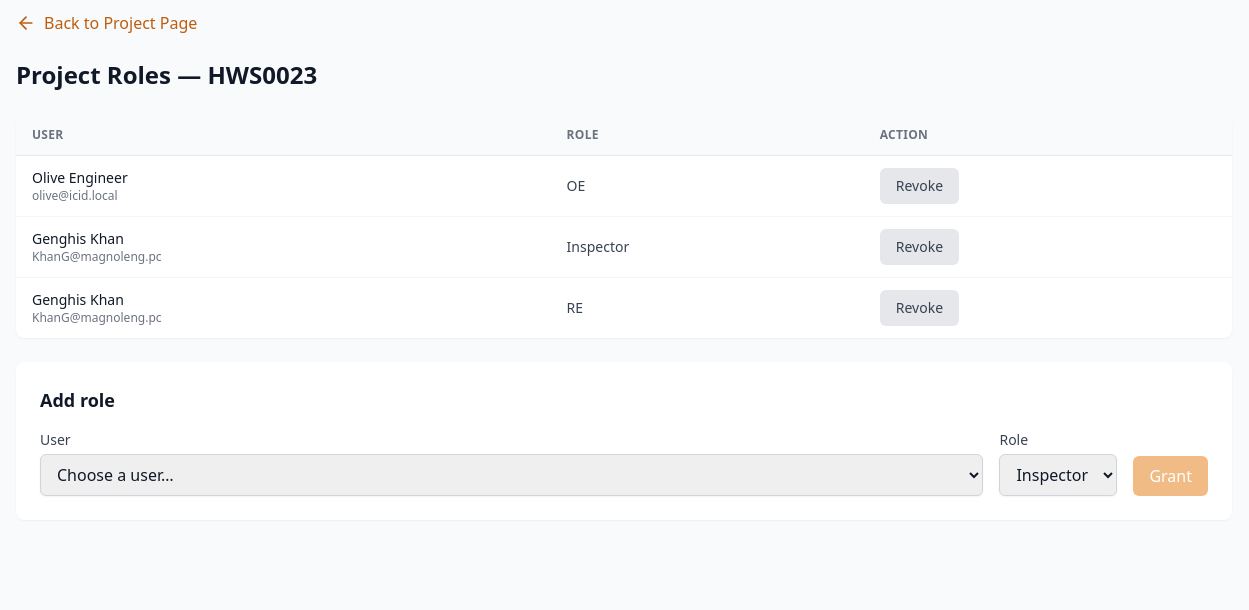
Test: ProjectRolesPage — Add role › grants the role, shows the new row and what happened, and clears the picker
Select "Olive Engineer (olive@icid.local)" in the dropdown labelled "User". click: (512, 475)
box: [40,454,983,496]
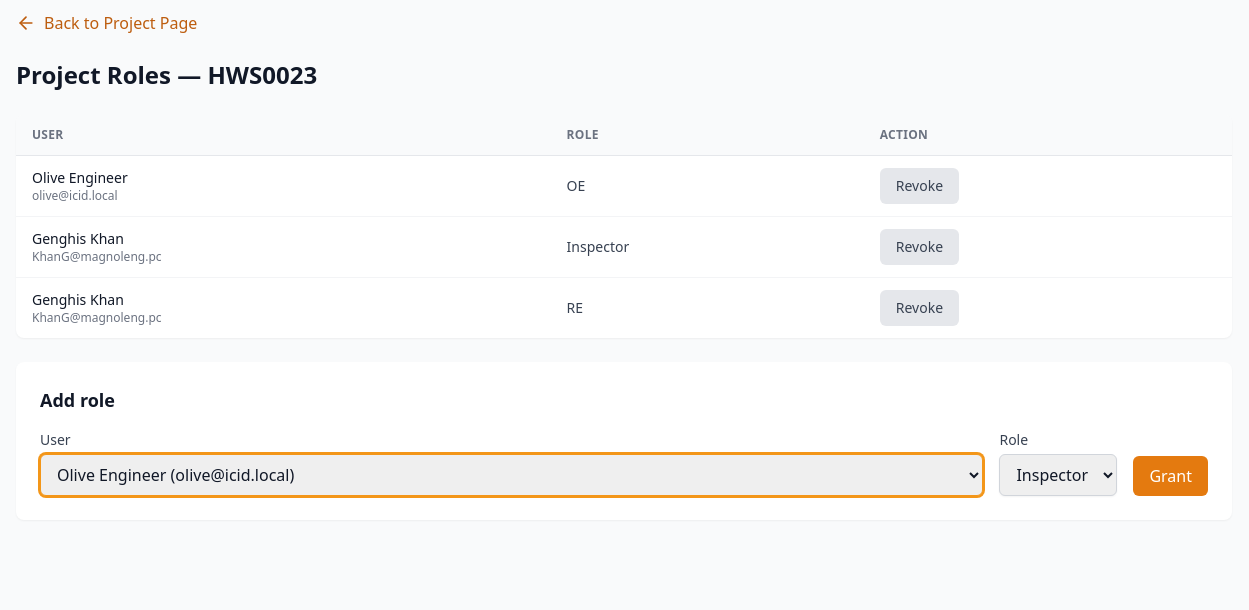
Select "RE" in the dropdown labelled "Role". click: (1058, 475)
box: [999,454,1117,496]
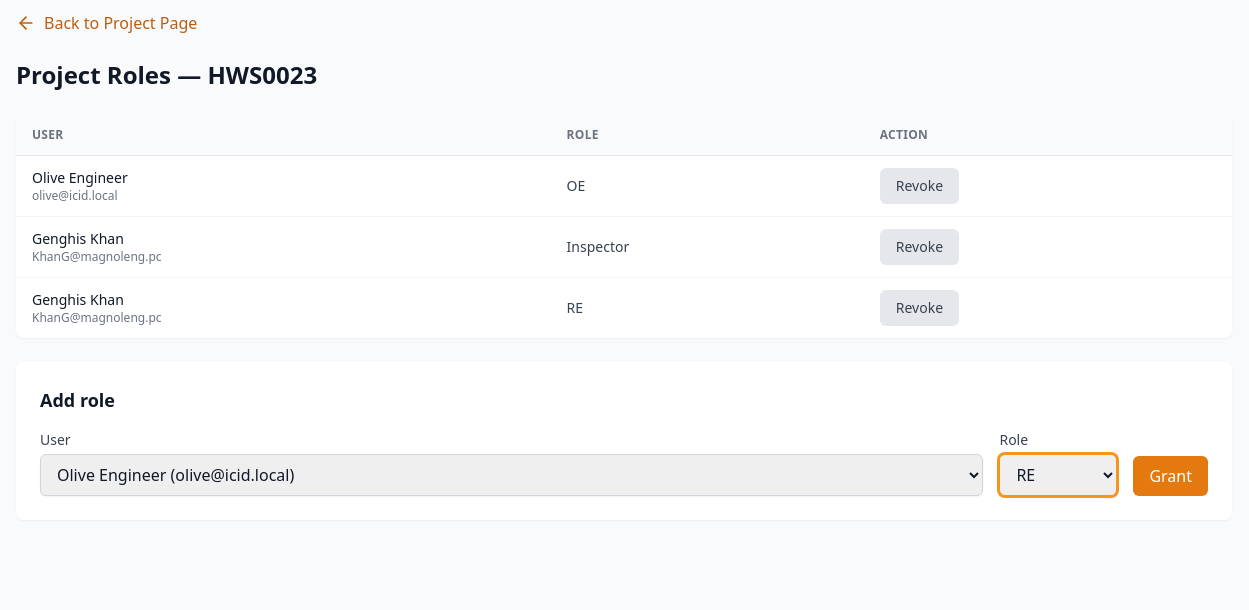
Click the button "Grant". click: (1171, 476)
box: [1133,456,1208,496]
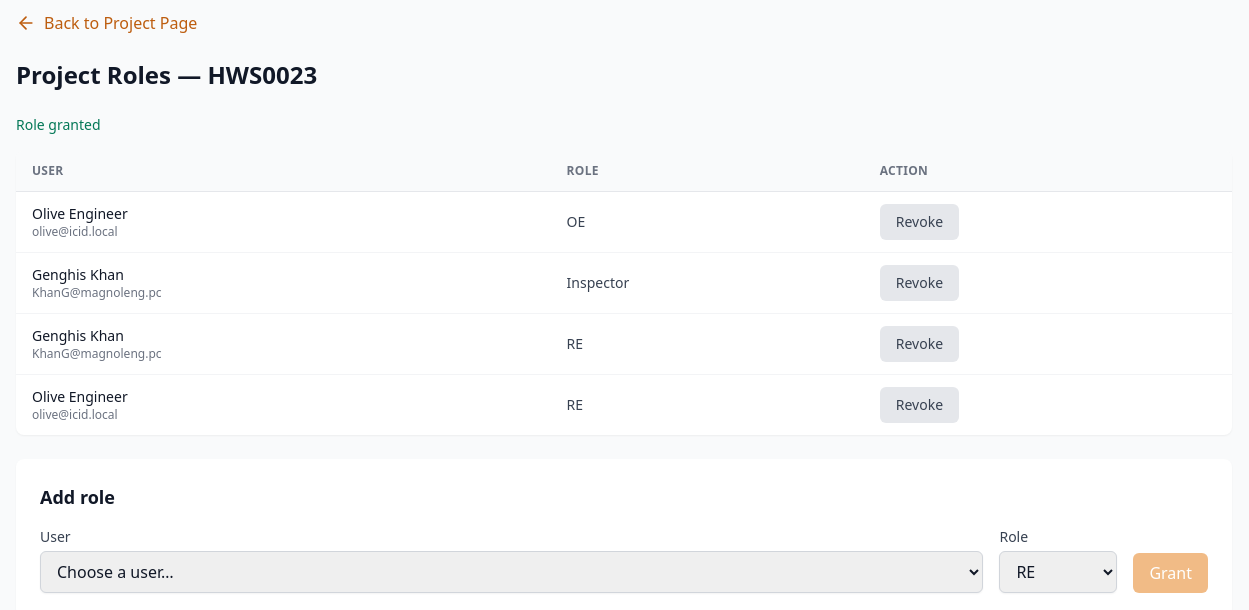
Expected: the text "Role granted" is shown, [16,115,100,134]
